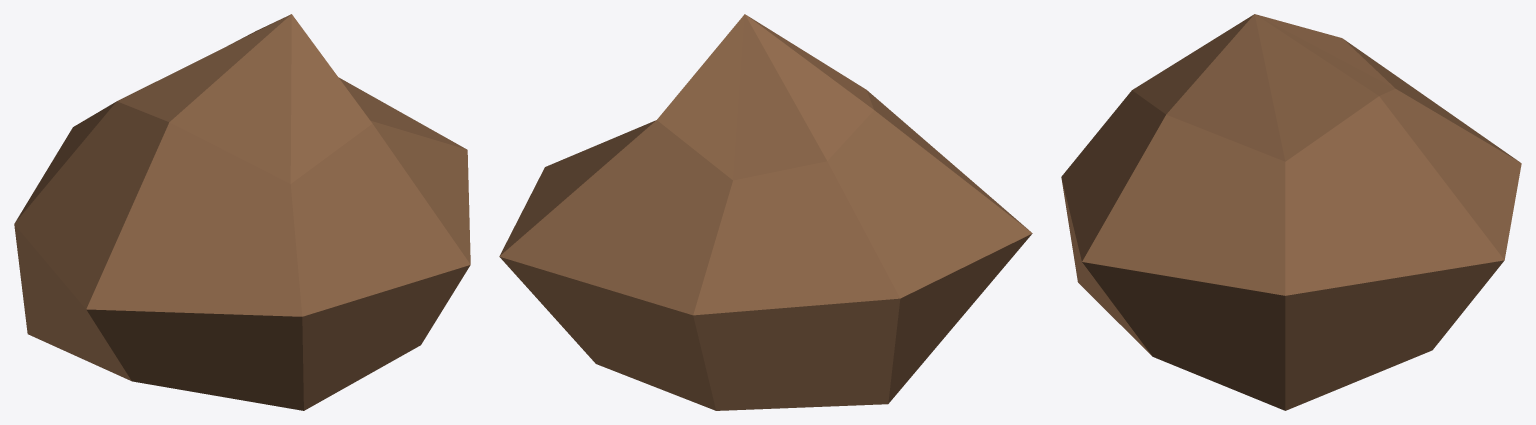
File: rock.glb
3 views of the same model, side by side, from view 1: azimuth 30°, elevation 25°; view 2: azimuth 150°, elevation 25°; view 3: azimuth 270°, elevation 25° (orthographic). The views are drawn at different scales.
Parts seen in each view (by area): view 1: Rock; view 2: Rock; view 3: Rock.
Boxes of the visible parts, left/top/right/bottom form: Rock: left=14, top=14, right=470, bottom=410; Rock: left=499, top=14, right=1032, bottom=410; Rock: left=1061, top=14, right=1521, bottom=410.
Size of the model in its own units: 3.26 by 2.19 by 2.99.
